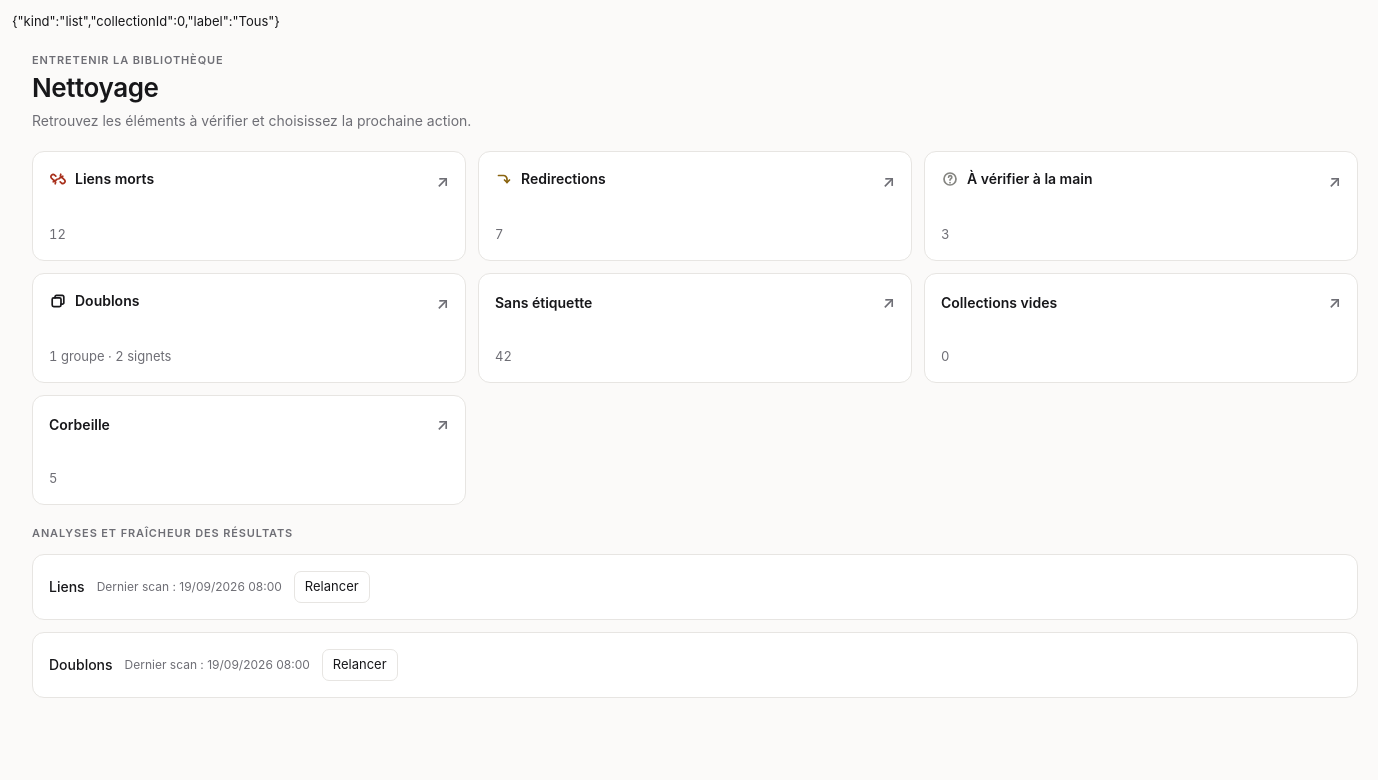
Test: CleanupDashboard › quitter le Nettoyage pendant un scan coupe le suivi SSE
What coordinates should you click on to do the following:
click the button named "Lancer l'analyse"
I would click on:
 (332, 586)
Its box is [294,570,370,602].
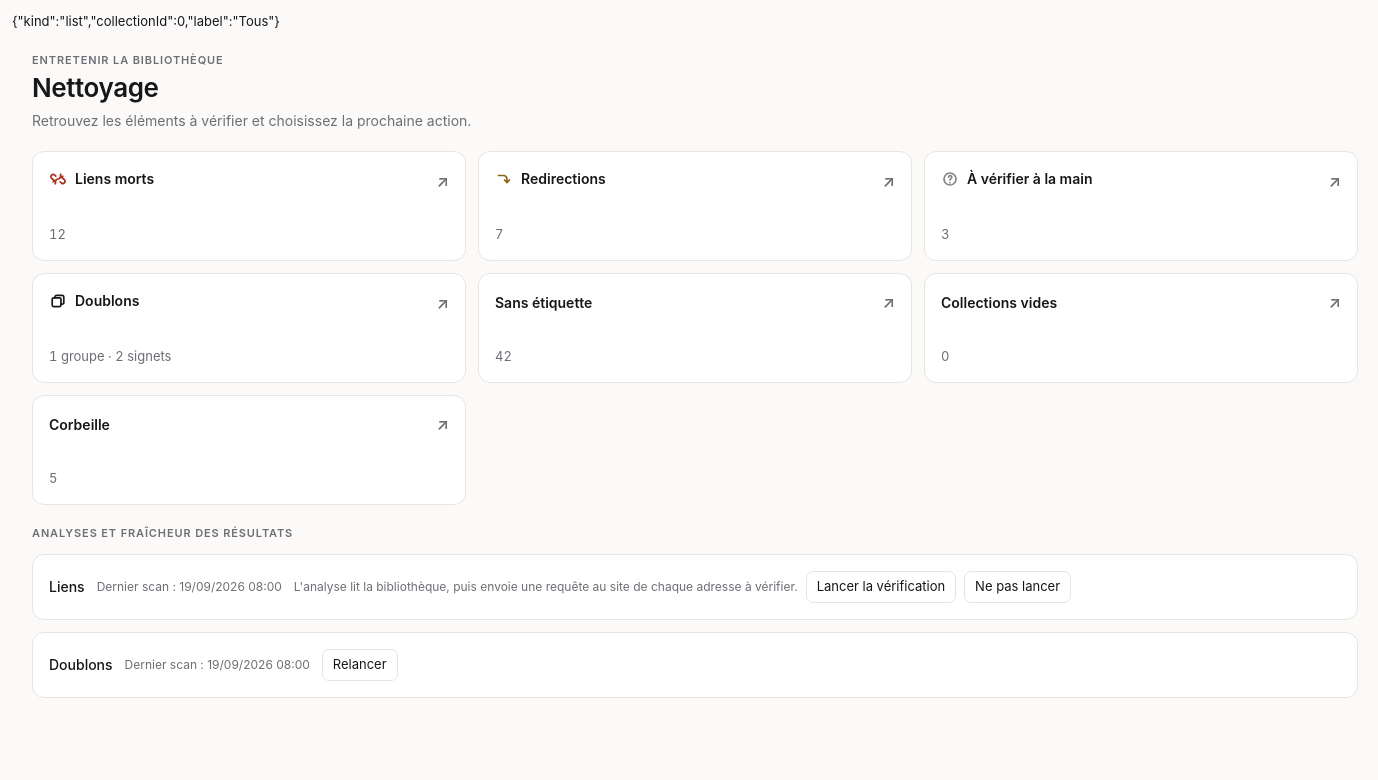
What coordinates should you click on to do the following:
click the button "Lancer la vérification"
I would click on:
 (881, 586)
Its box is [806,570,956,602].
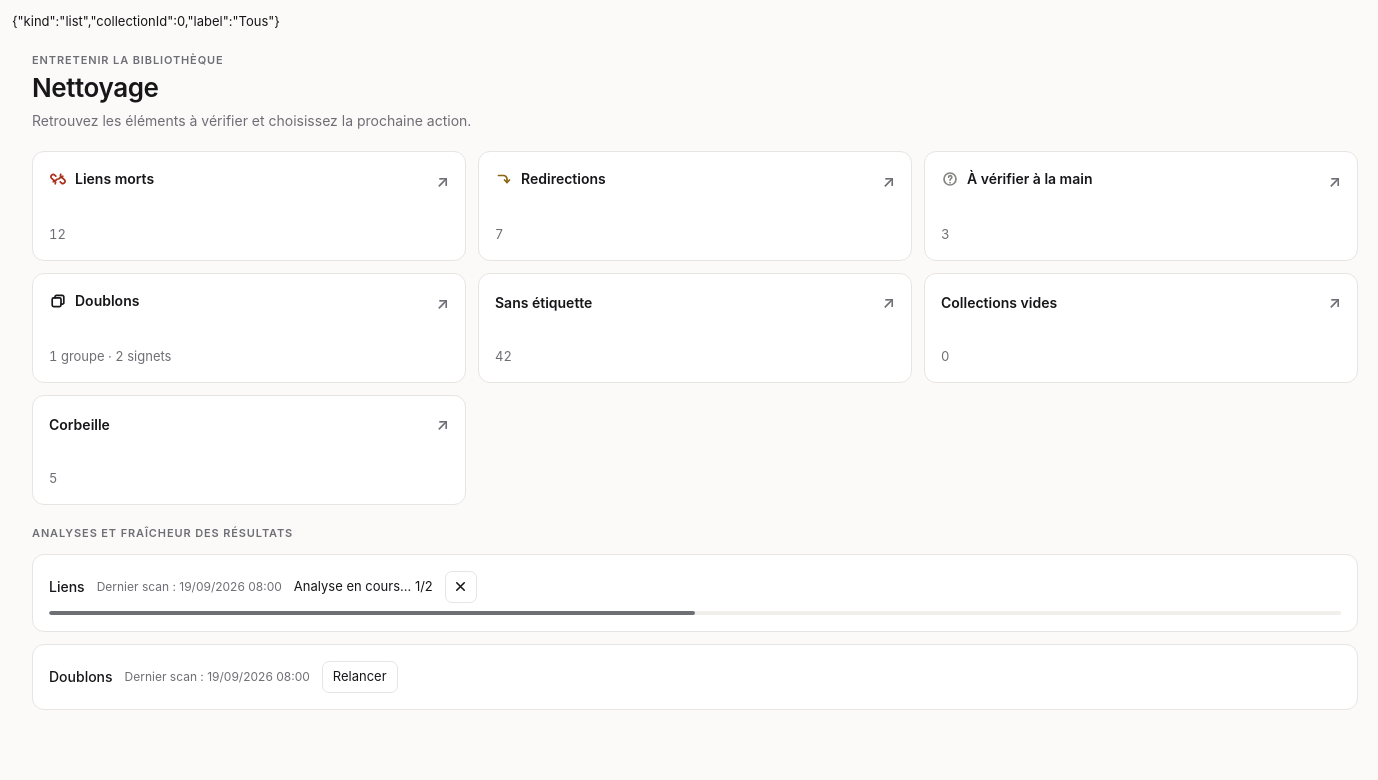
Expected: the message "Analyse en cours… 1/2" is shown, [294,577,433,596]
